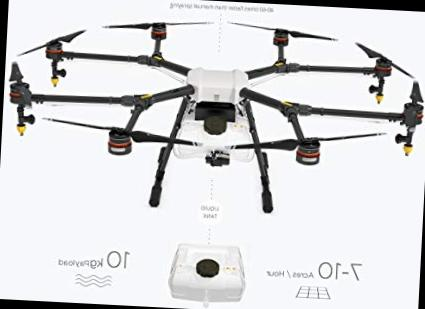drone: (0, 1, 425, 204)
